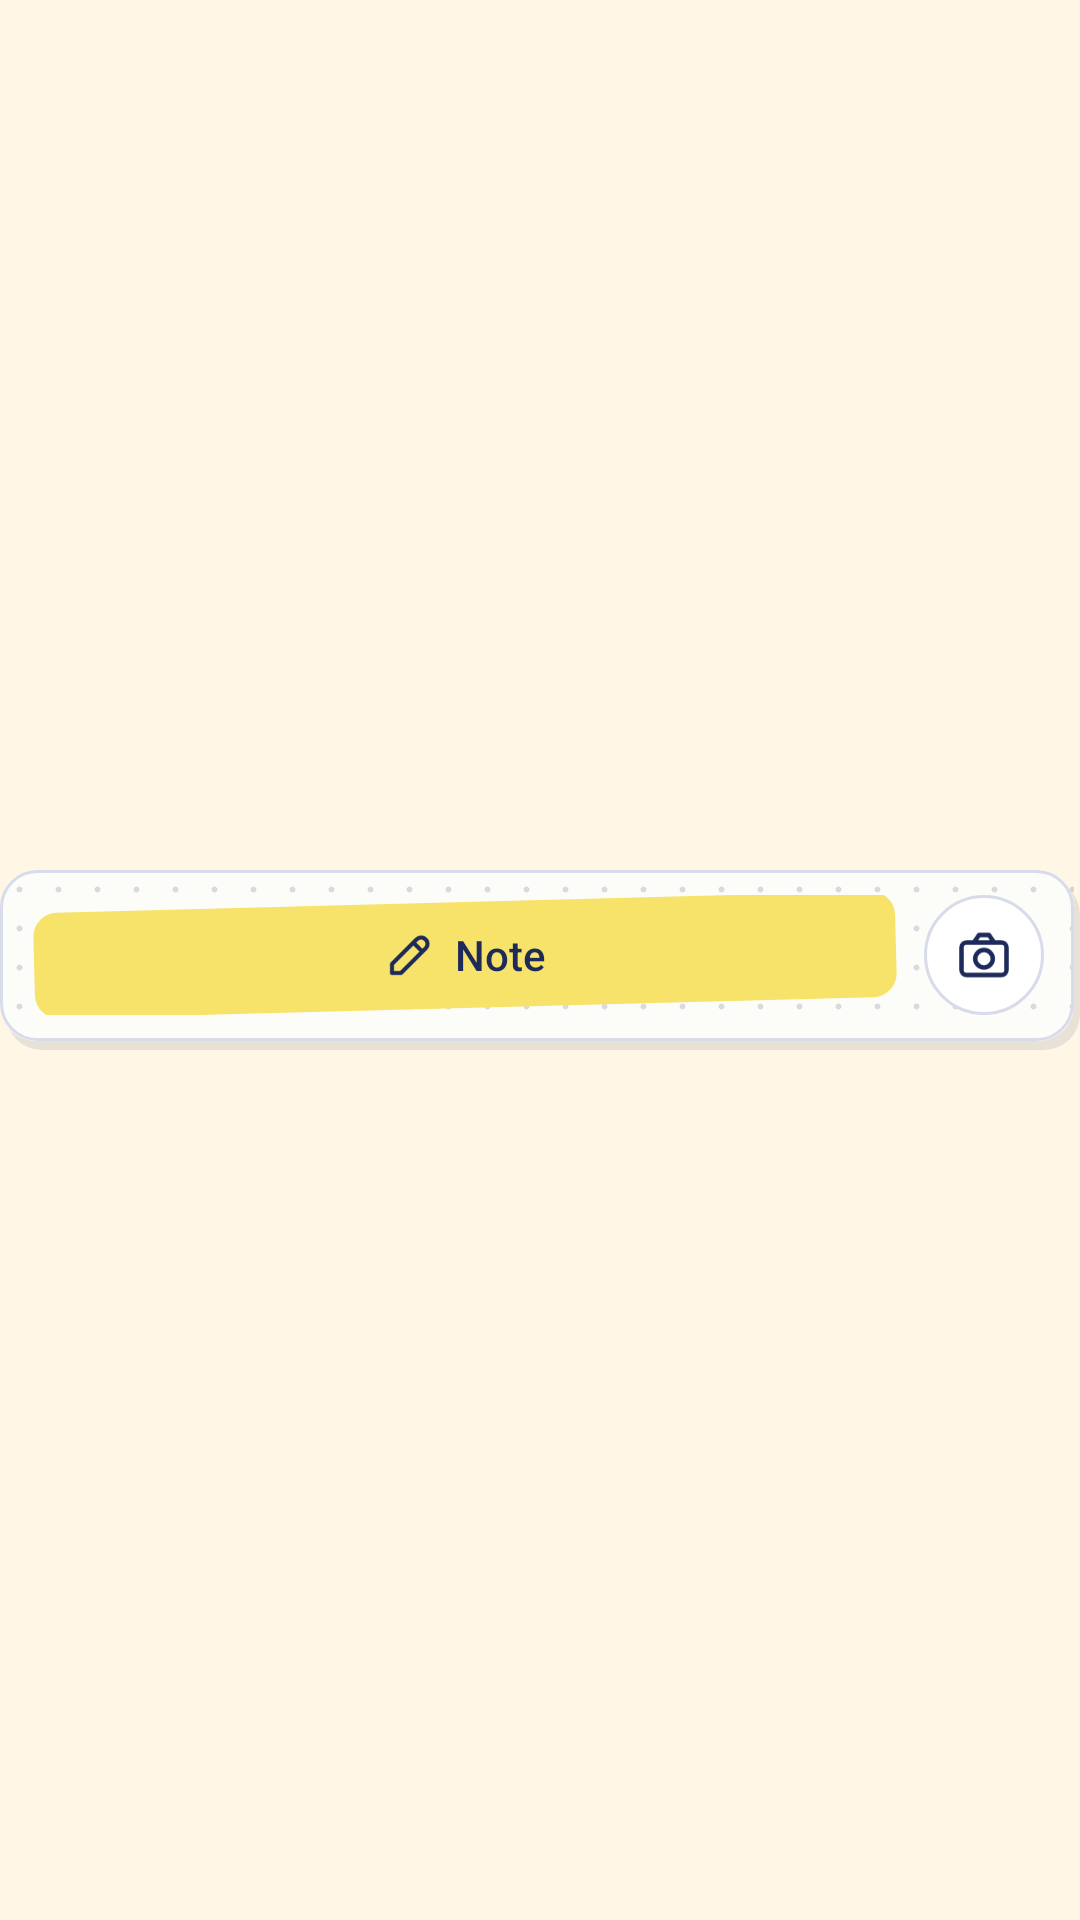

Screen size 1080x1920. Icon name, then its box in pixels as (x1, y1, x2, y2):
Camera: (959, 932, 1009, 978)
